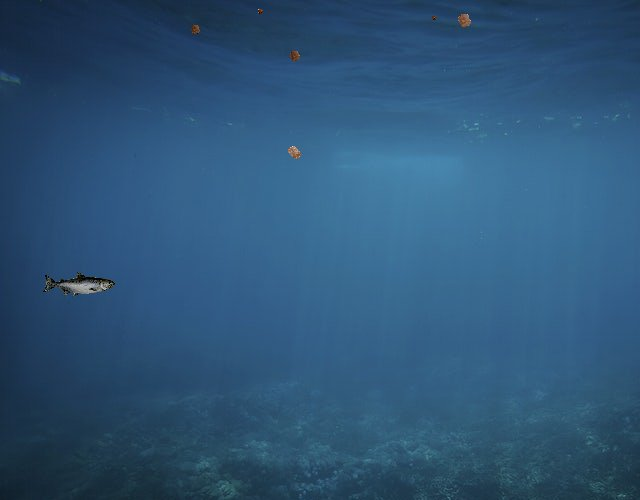Fish: (42, 271, 116, 298)
Pellet: (280, 139, 308, 167), (284, 45, 306, 67), (254, 5, 266, 17)
